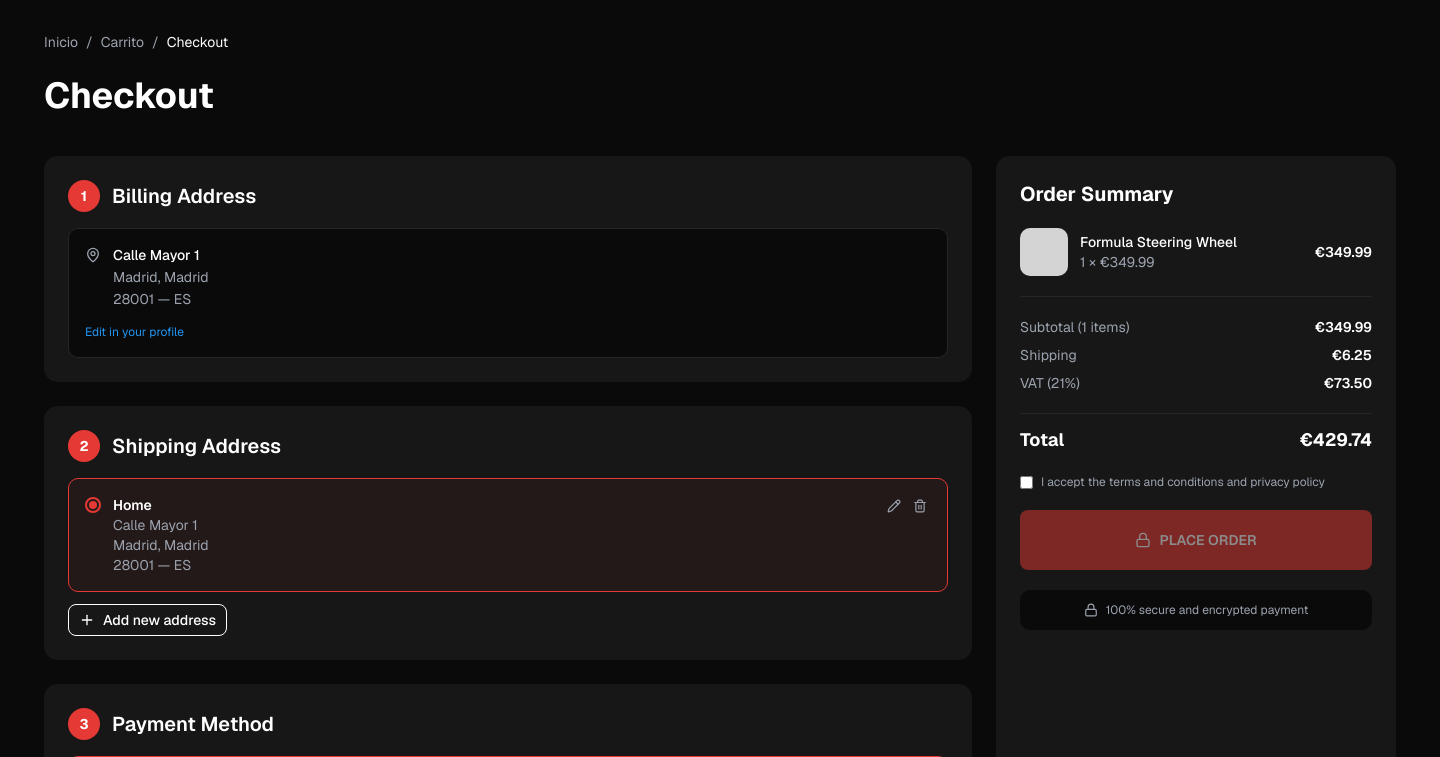
it: CheckoutContent › placing order › shows error message when order creation fails
The image size is (1440, 757).
Expected: the button "PLACE ORDER" is shown, 1020,510 -> 1372,570
Click the checkbox.
click(1026, 482)  # box 1020,476 -> 1033,489
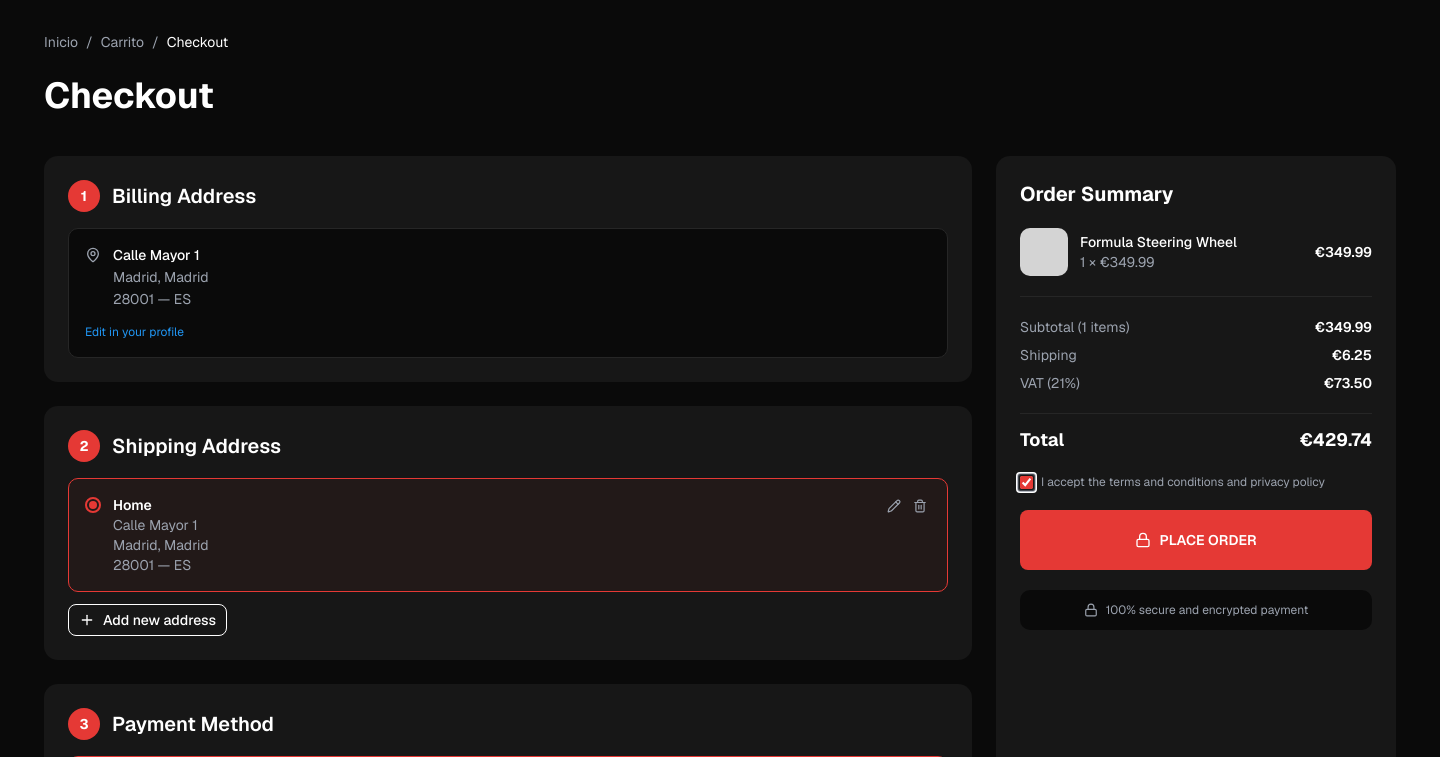
Click the button "PLACE ORDER".
click(1196, 540)  # box 1020,510 -> 1372,570
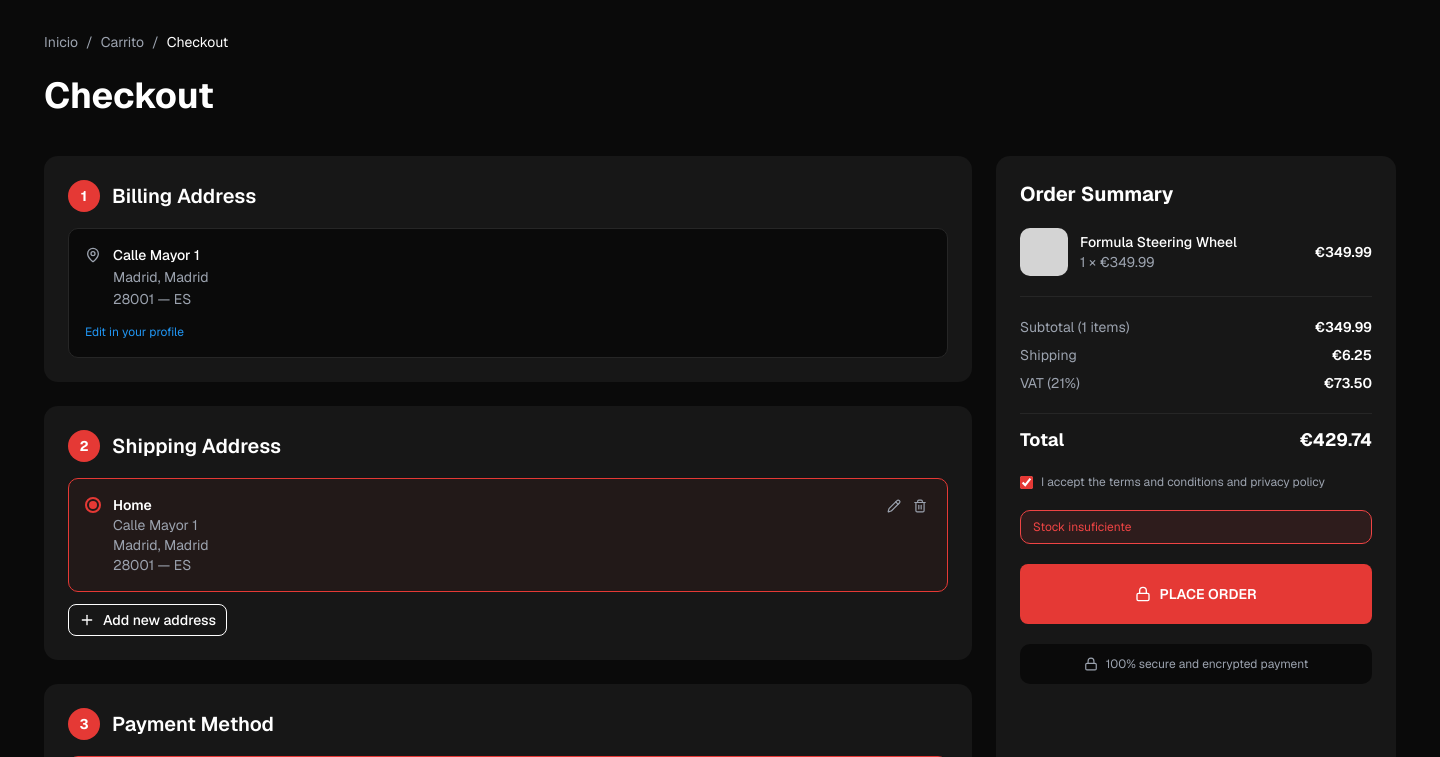
Expected: the text "Stock insuficiente" is shown, 1020,510 -> 1372,544
